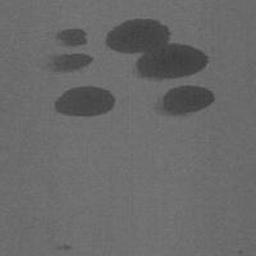Oil spot: (105, 17, 210, 83), (151, 83, 218, 119), (45, 27, 95, 74), (52, 84, 116, 119), (55, 243, 74, 252)
